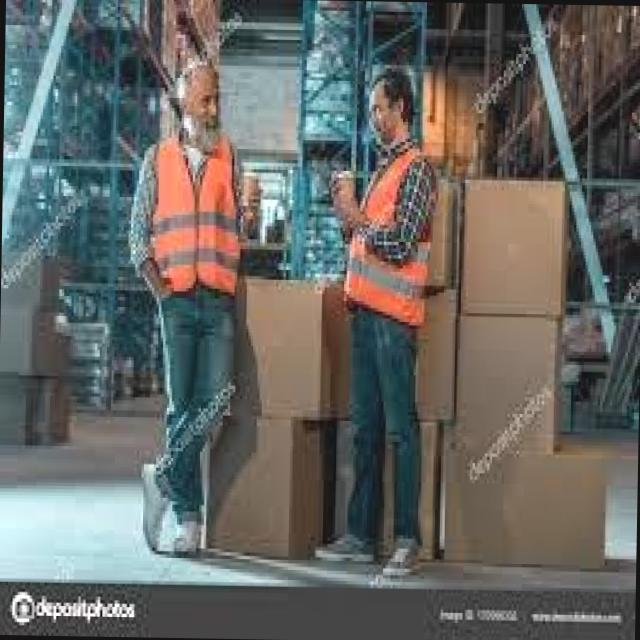no-helmet: (164, 48, 233, 136), (354, 64, 423, 145)
vest: (138, 144, 254, 326), (338, 150, 428, 305)
